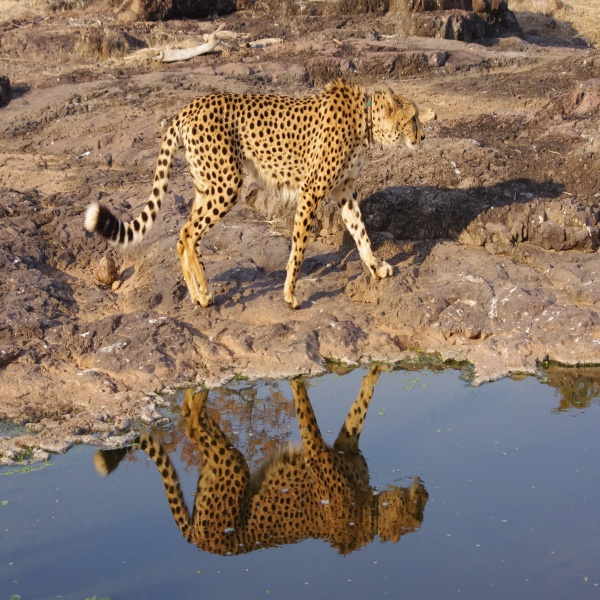Cheetah: (82, 83, 429, 310)
